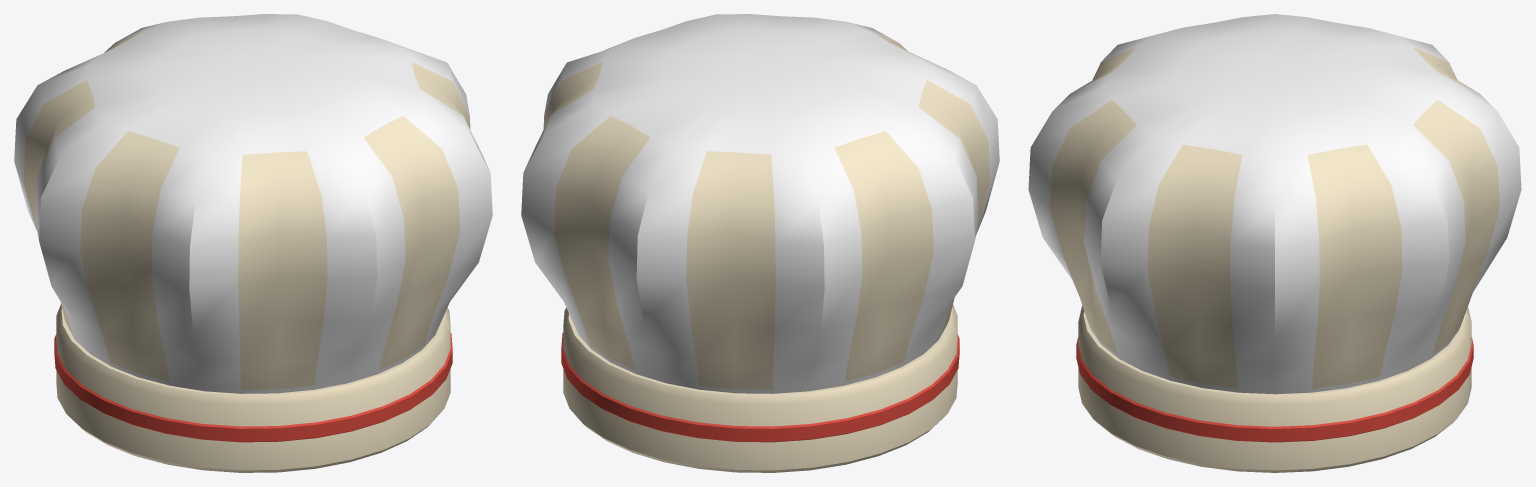
Rendered from hat_chef.glb.
3 renders of one model, left to right at view 1: azimuth 30°, elevation 25°; view 2: azimuth 150°, elevation 25°; view 3: azimuth 270°, elevation 25°, orthographic.
Parts seen in each view (by area): view 1: Hat; view 2: Hat; view 3: Hat.
Boxes of the visible parts, x1,y1,x2,y2 form: Hat: [14, 14, 492, 472]; Hat: [521, 14, 999, 472]; Hat: [1028, 14, 1521, 472].
Bounding box in the file's own units: 0.7418 × 0.532 × 0.7418.
